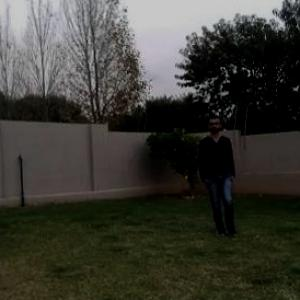follow: (206, 118, 235, 236)
